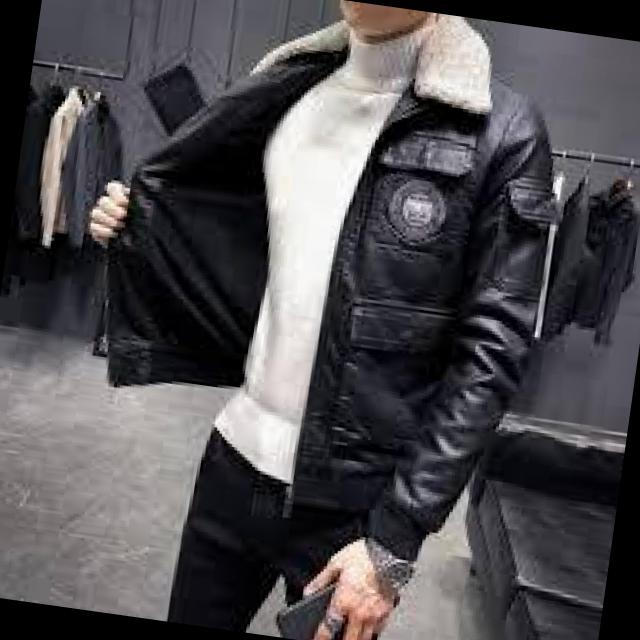jacket: (44, 0, 593, 593)
